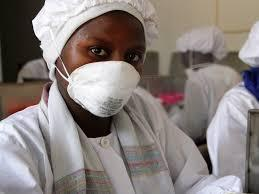Wearing Mask: (31, 0, 164, 133)
